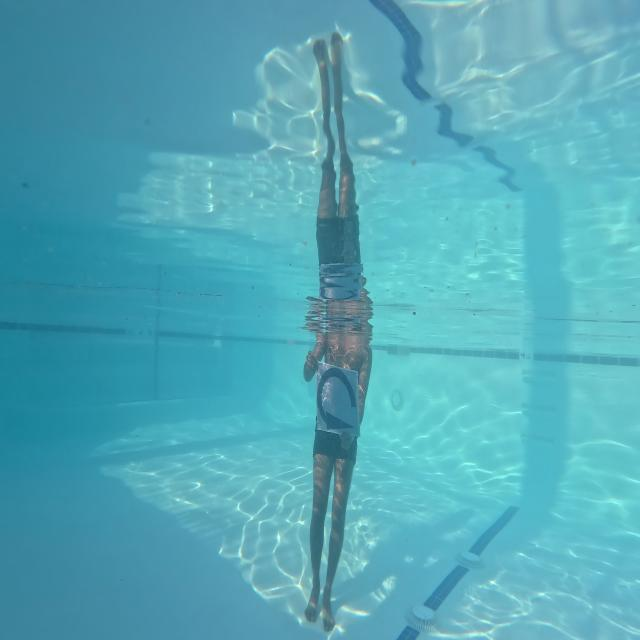blue_side: (314, 360, 358, 439)
